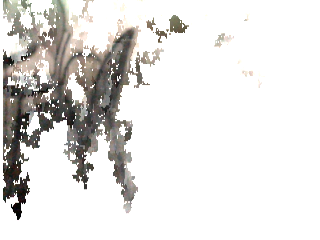Obstacle: (3, 0, 137, 217)
